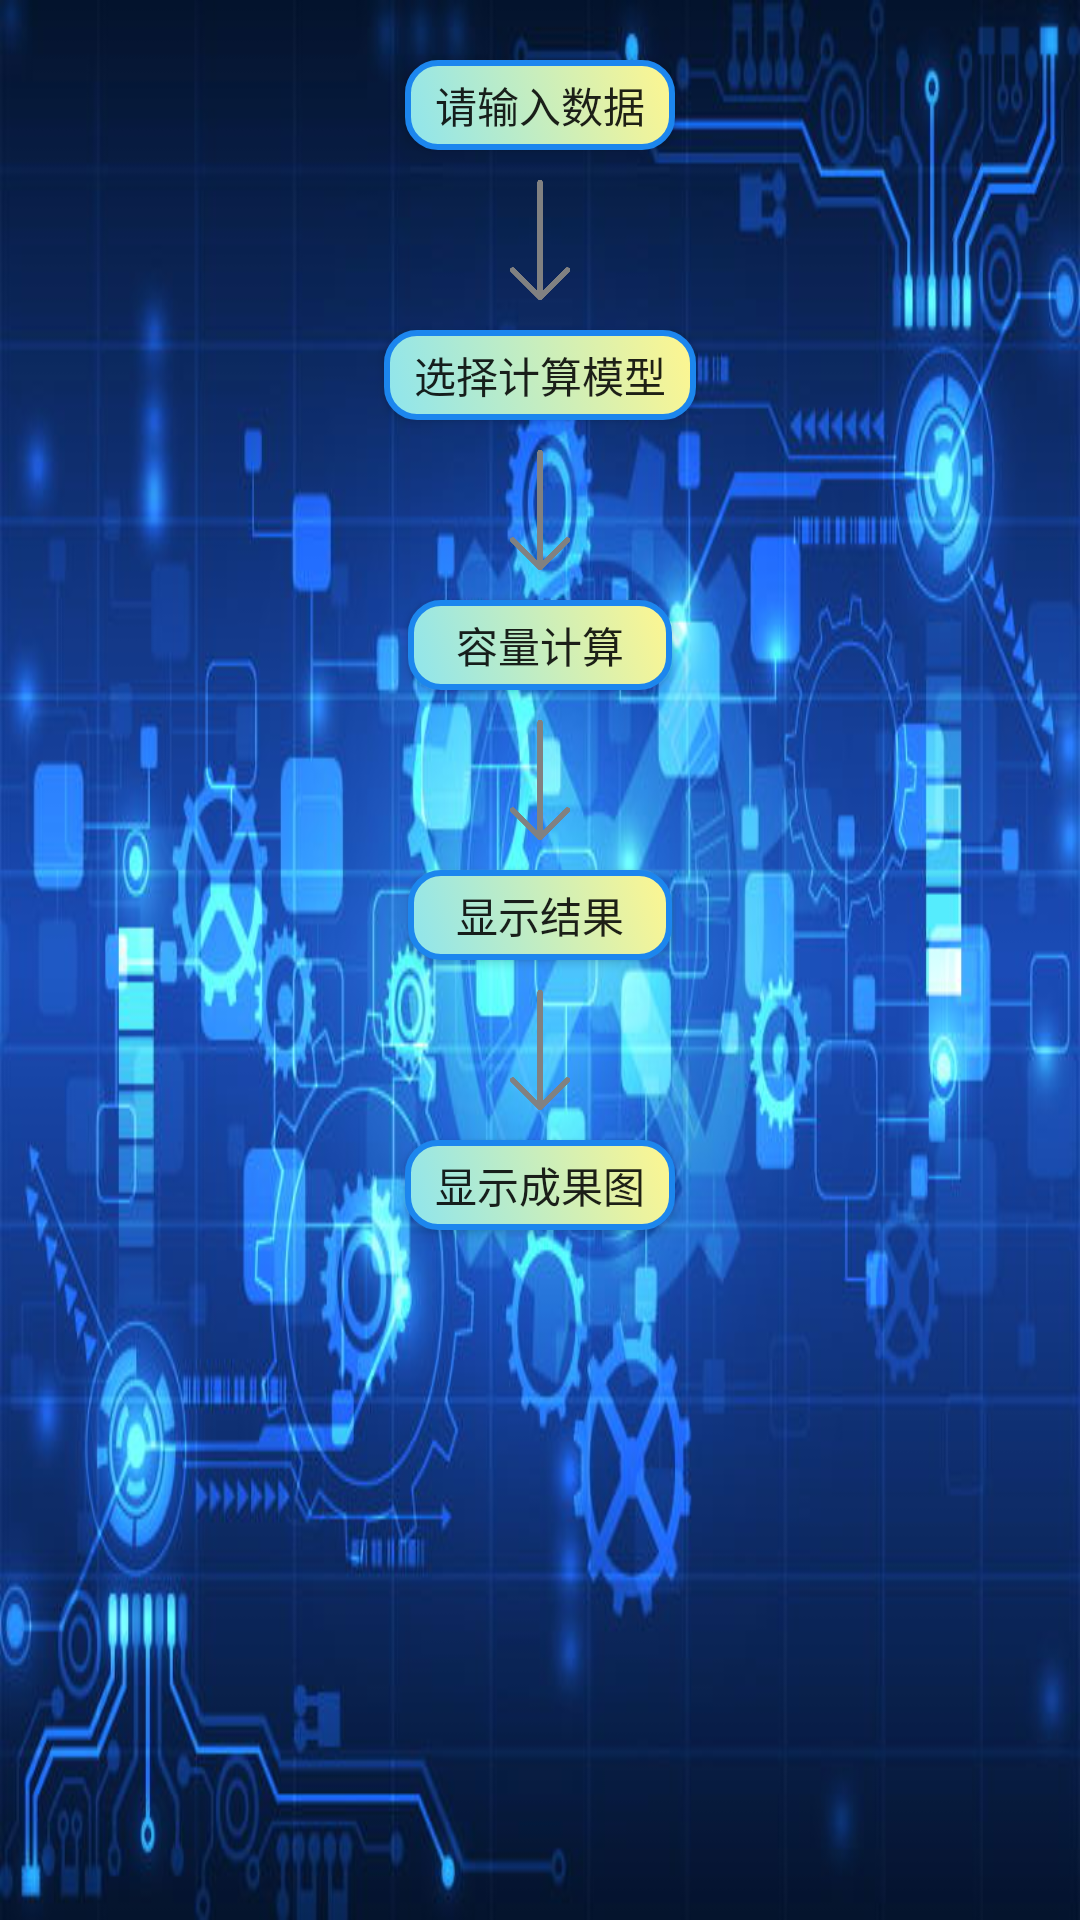

Where to tap for icons on this 1080x1920 app screen, as [x,y]:
jiantou: [540,240], [540,510], [540,780], [540,1050]
